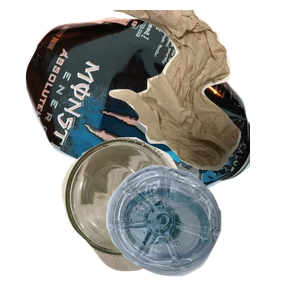glass: (59, 135, 254, 300)
metal: (23, 15, 263, 195)
plastic: (104, 163, 300, 300)
trash: (103, 10, 300, 173)
